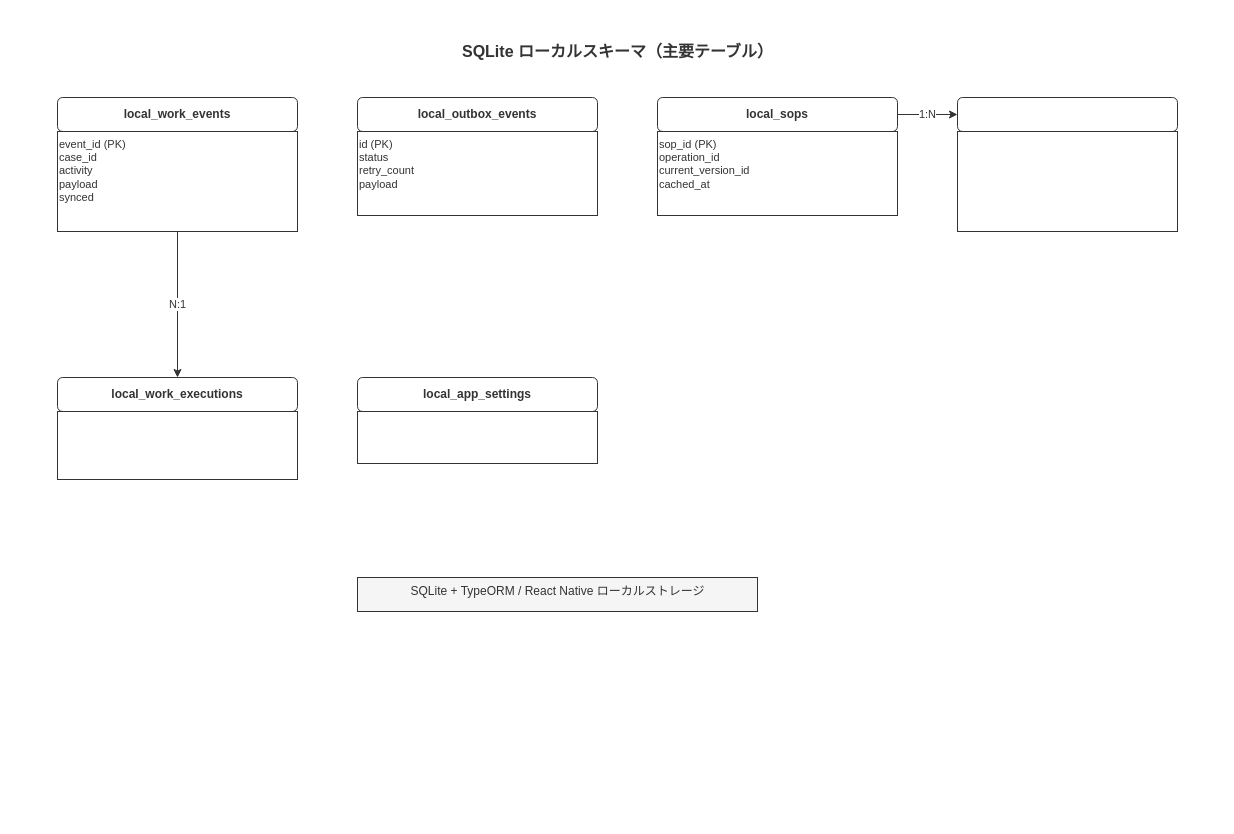
Some shapes in this 1234 by 834 pixel diagram are drawn without their labels. Here are the shapes that lost their labels. From the top down, the centre of each, then its label:
At (1067,114): "local_steps".
At (1067,181): "step_id (PK) sop_id (FK) step_number input_type instruction_text".
At (177,445): "execution_id (PK) status current_step_index".
At (477,437): "key (PK) value".
